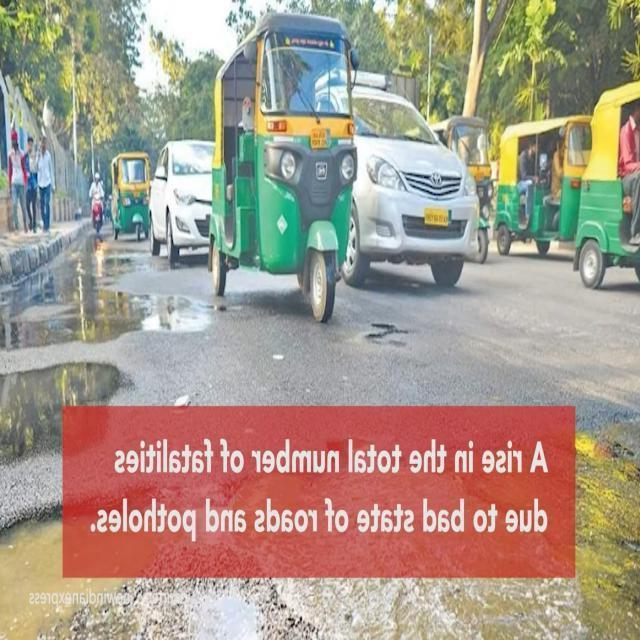pothole: (0, 497, 161, 634), (3, 364, 117, 464), (581, 433, 640, 486), (371, 321, 411, 355)
